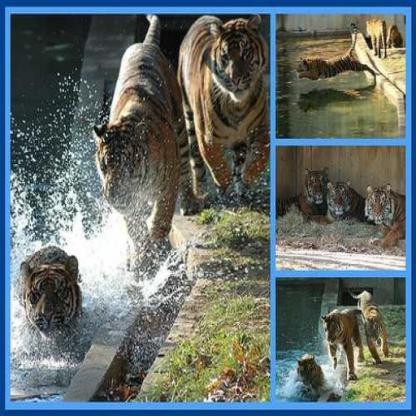Tiger: (92, 25, 186, 289), (178, 16, 269, 216), (16, 237, 105, 353), (294, 35, 376, 101), (357, 174, 406, 252), (316, 302, 363, 382), (352, 291, 396, 367), (289, 163, 332, 225), (288, 347, 328, 401), (325, 174, 363, 228), (364, 15, 390, 64)
